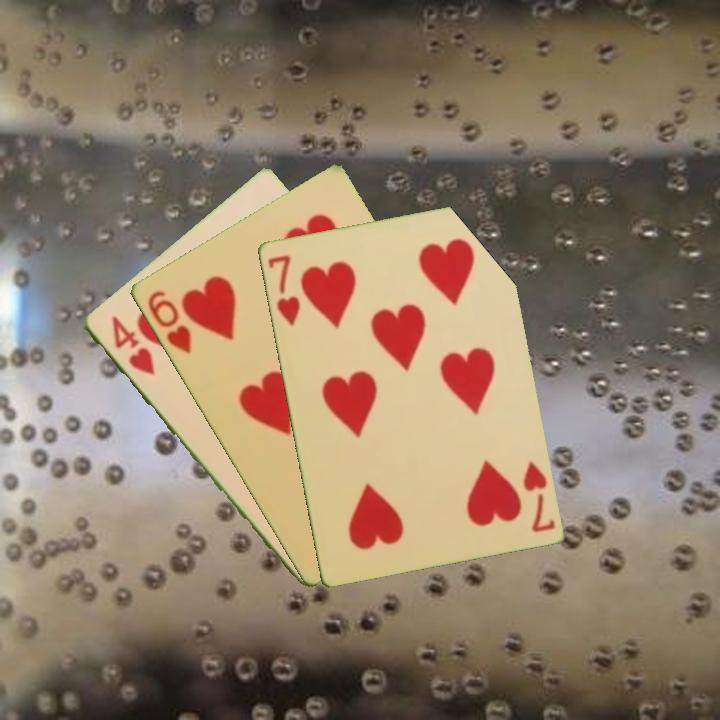4h: (107, 312, 158, 379)
6h: (143, 286, 194, 357)
7h: (263, 251, 303, 329), (519, 457, 558, 535)
